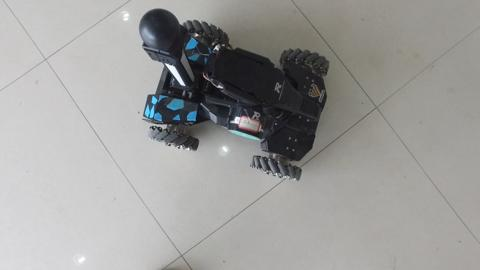chariot: (122, 2, 310, 177)
